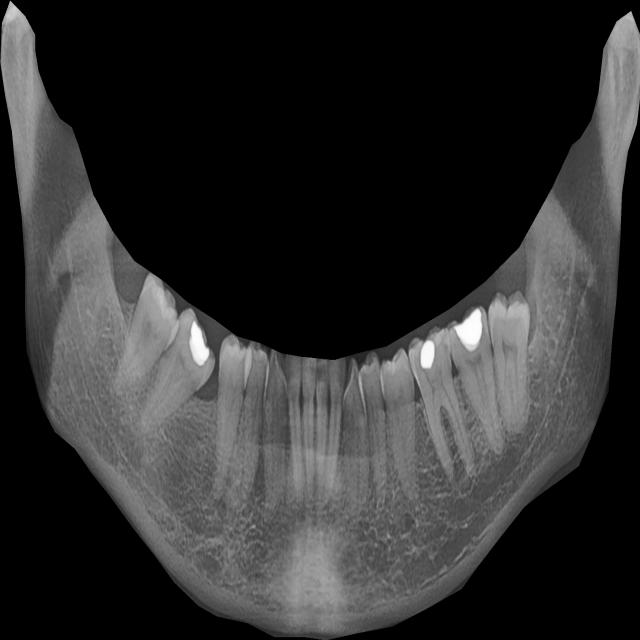mandibula: (0, 1, 640, 640)
